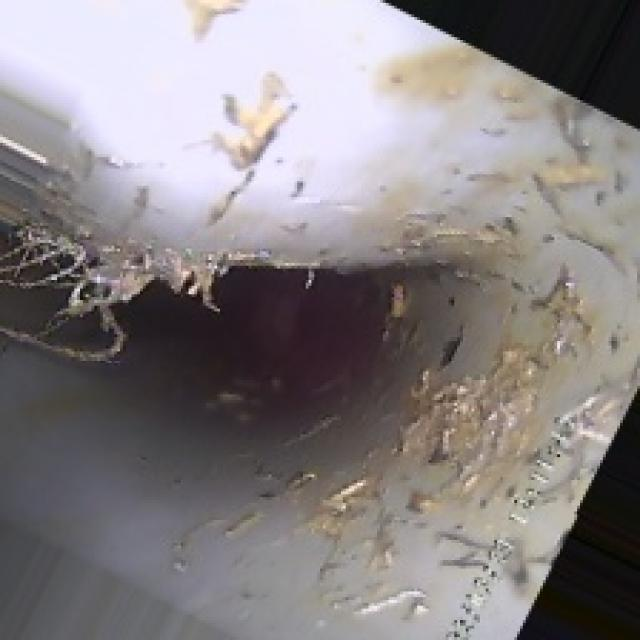shape_deformation: (34, 83, 554, 448)
